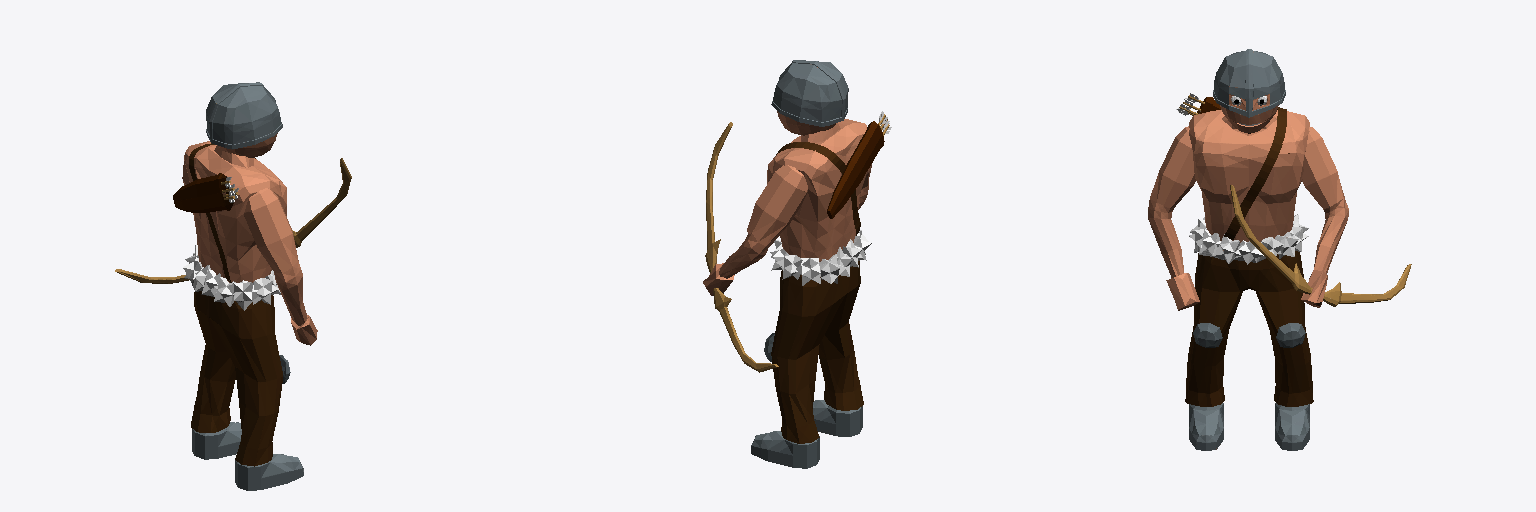
3 renders of one model, left to right at view 1: azimuth 30°, elevation 25°; view 2: azimuth 150°, elevation 25°; view 3: azimuth 270°, elevation 25°, orthographic.
Visible parts, largest first — view 1: Cube_Cube.016; view 2: Cube_Cube.016; view 3: Cube_Cube.016.
Part boxes in pixels (x1,y1,x2,y2): Cube_Cube.016: (115, 82, 351, 490); Cube_Cube.016: (703, 60, 891, 468); Cube_Cube.016: (1148, 49, 1411, 450).
Size of the model in its own units: 2.81 by 6.8 by 4.26.
1 materials, 1 textured.